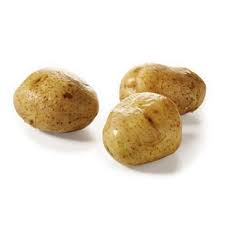potato: (12, 68, 94, 140), (105, 98, 178, 166), (113, 63, 204, 116)
